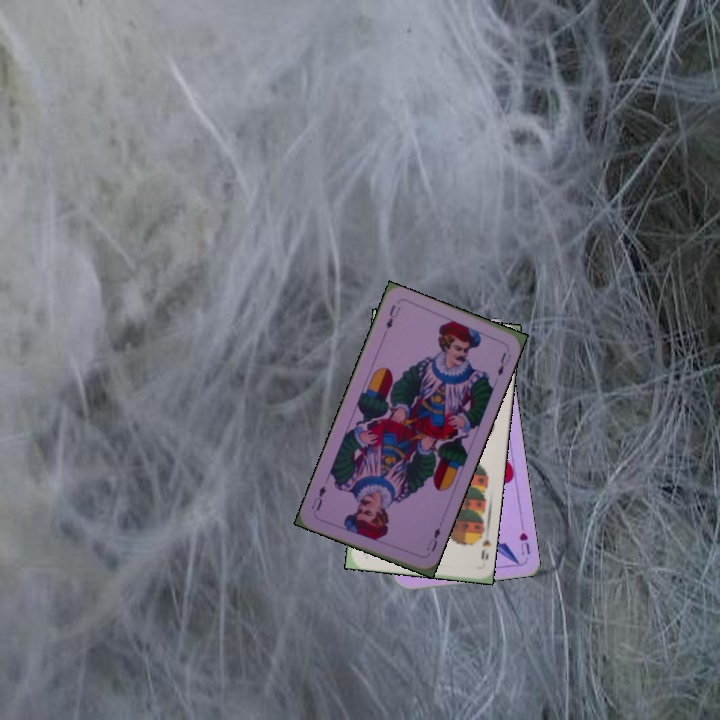EU: (422, 523, 443, 554), (382, 301, 403, 332)
HU: (515, 528, 533, 558)
S9: (472, 526, 492, 562)
